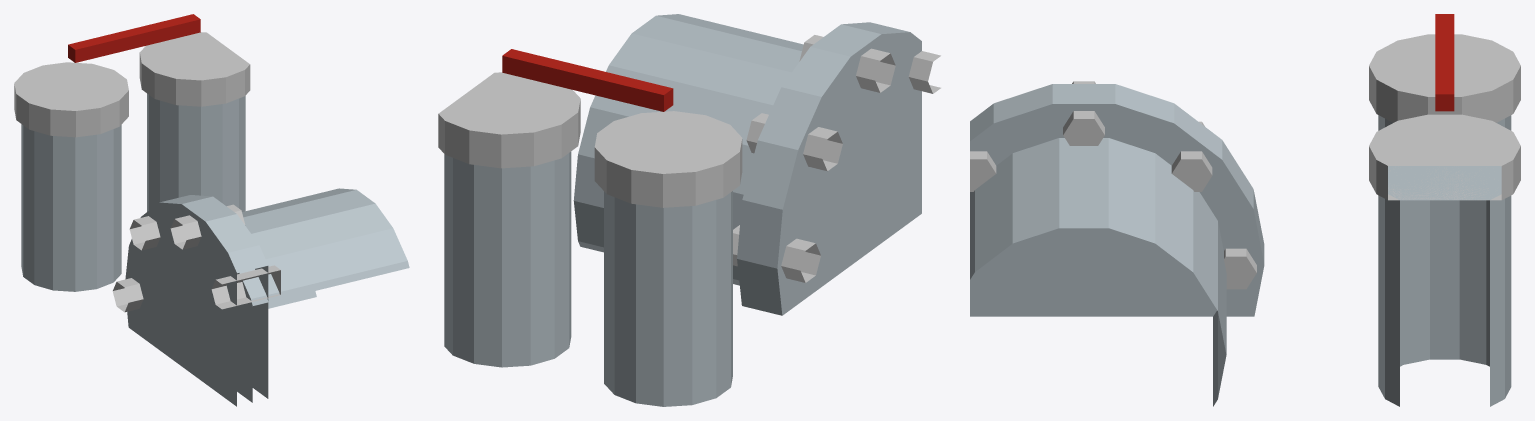
File: cell_38.obj
3 views of the same model, side by side, from view 1: azimuth 30°, elevation 25°; view 2: azimuth 150°, elevation 25°; view 3: azimuth 270°, elevation 25° (orthographic). The views are drawn at different scales.
Bounding box in the file's own units: 0.328 × 0.34 × 0.58.
